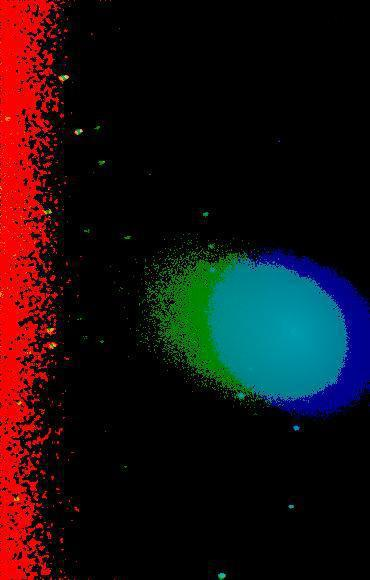star: (293, 490, 323, 520)
